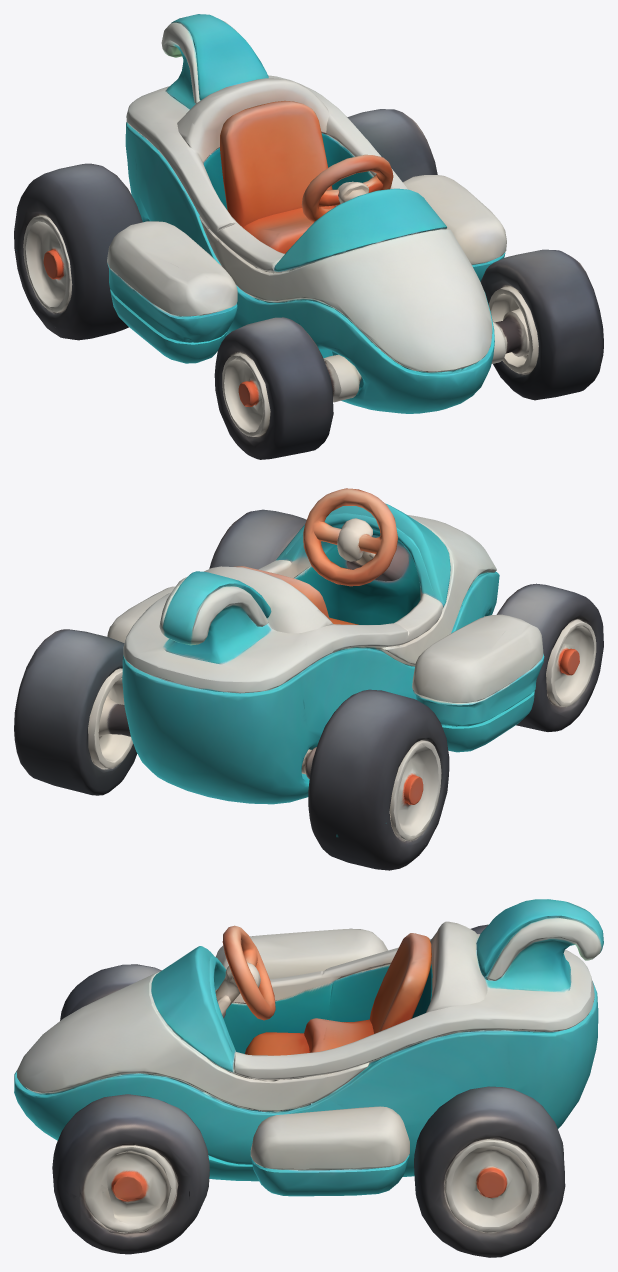
The model's file is reef-cartoon-mobile-decimated.glb.
3 views of the same model, one above another, from view 1: azimuth 30°, elevation 25°; view 2: azimuth 150°, elevation 25°; view 3: azimuth 270°, elevation 25° (orthographic). The views are drawn at different scales.
Visible parts, largest first — view 1: model; view 2: model; view 3: model.
Boxes of the visible parts, box(x1,y1,x2,y2) form: model: box(14, 14, 603, 459); model: box(14, 488, 603, 870); model: box(14, 899, 603, 1257).
Bounding box in the file's own units: 1.42 × 0.9561 × 1.9.
1 material, 1 textured.
